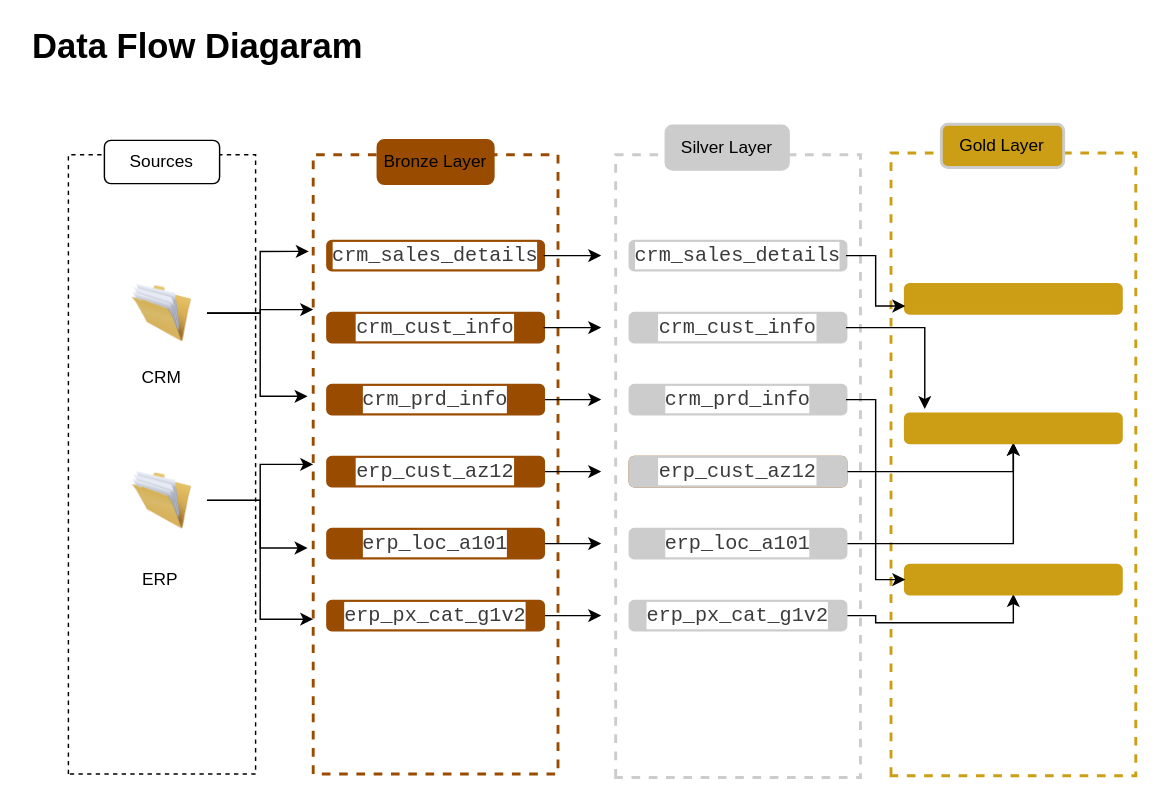
Image size: 1162x804. Some labels were removed from this diagram. Each missing label, with the centre of its shape:
"dim_customer" belongs at pixel 1012 428.
"dim_product" belongs at pixel 1012 579.
"fact_sales" belongs at pixel 1012 298.
